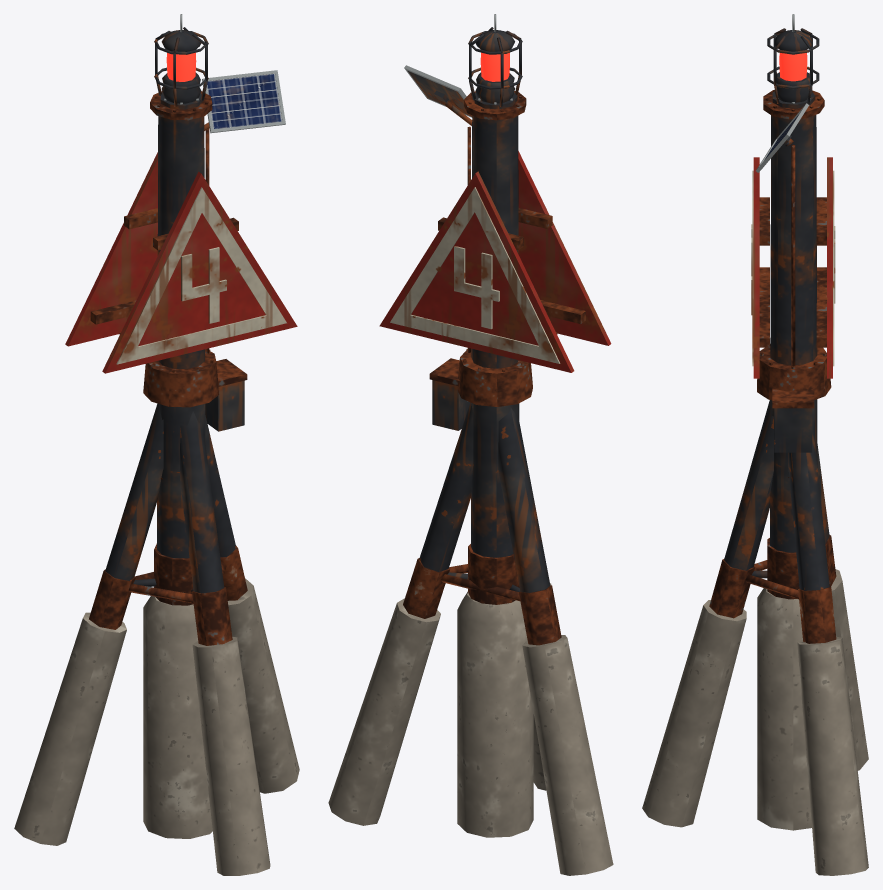
File: marker_channel_starboard.glb
The picture shows the model from 3 angles, left to right: view 1: azimuth 30°, elevation 25°; view 2: azimuth 150°, elevation 25°; view 3: azimuth 270°, elevation 25°; orthographic projection.
Visible parts, largest first — view 1: marker_channel_starboard; view 2: marker_channel_starboard; view 3: marker_channel_starboard.
Boxes of the visible parts, box(x1,y1,x2,y2) form: marker_channel_starboard: box(14, 14, 299, 875); marker_channel_starboard: box(328, 14, 613, 875); marker_channel_starboard: box(642, 14, 868, 875).
Bounding box in the file's own units: 2.33 × 6.55 × 1.67.
9 materials, 6 textured.
